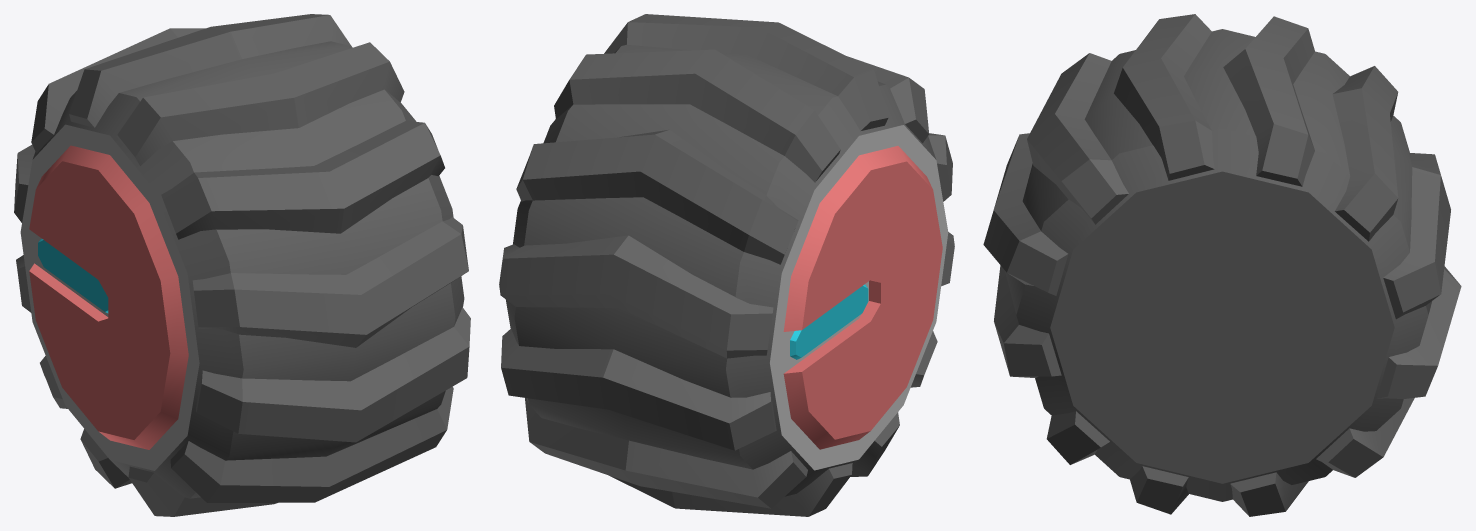
Rendered from WheelRight_001.fbx.
3 renders of one model, left to right at view 1: azimuth 30°, elevation 25°; view 2: azimuth 150°, elevation 25°; view 3: azimuth 270°, elevation 25°, orthographic. The views are drawn at different scales.
Parts seen in each view (by area): view 1: WheelRight_001; view 2: WheelRight_001; view 3: WheelRight_001.
Boxes of the visible parts, x1=… form: WheelRight_001: x1=14, y1=14, x2=470, y2=516; WheelRight_001: x1=499, y1=14, x2=954, y2=516; WheelRight_001: x1=983, y1=14, x2=1461, y2=516.
Bounding box in the file's own units: 89.06 × 137 × 137.
